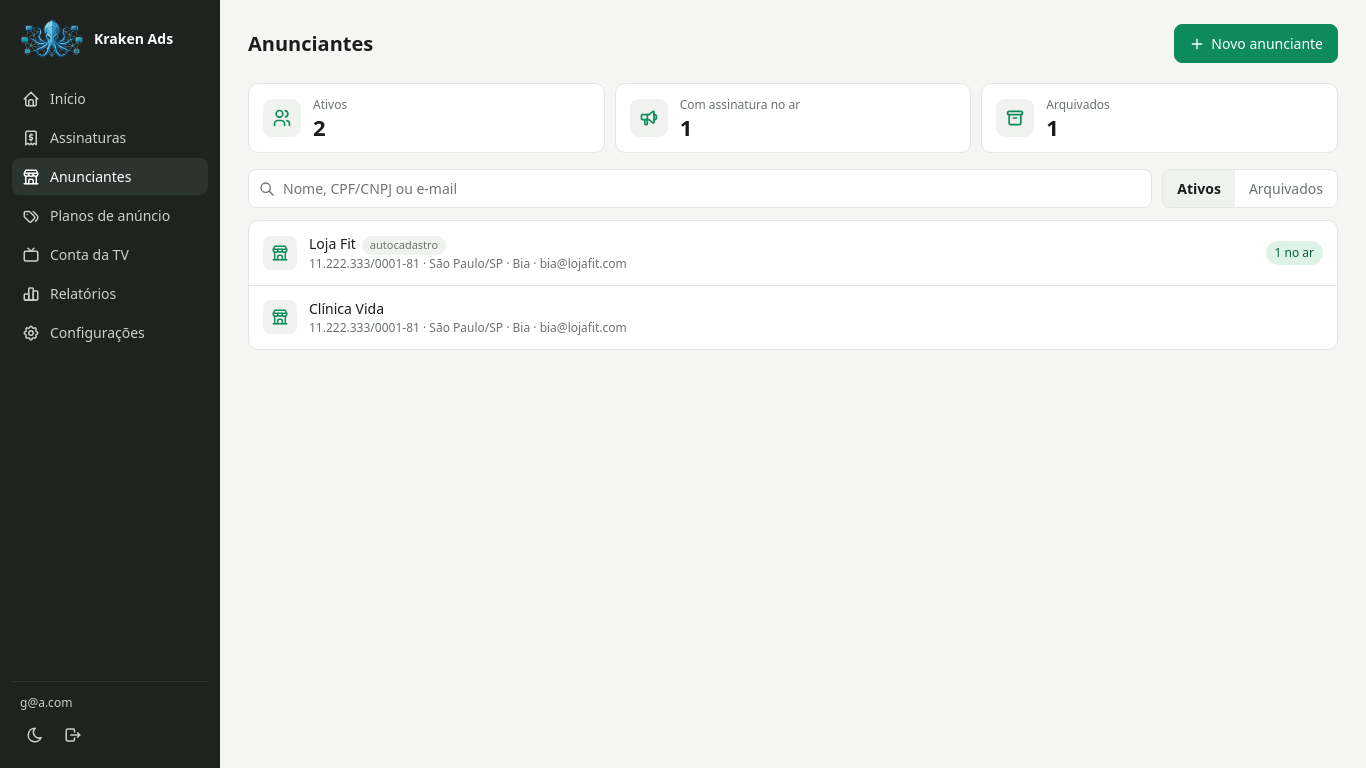
Test case: advertisers › lists with stats and searches on the server
Check: the text "Loja Fit" is shown, box x1=309 y1=234 x2=356 y2=253
Check: the text "11.222.333/0001-81" below "Loja Fit" is shown, box x1=309 y1=255 x2=627 y2=272
Type "vida" into the search field named "Buscar" at x=712, y=189, box x1=283 y1=170 x2=1141 y2=207
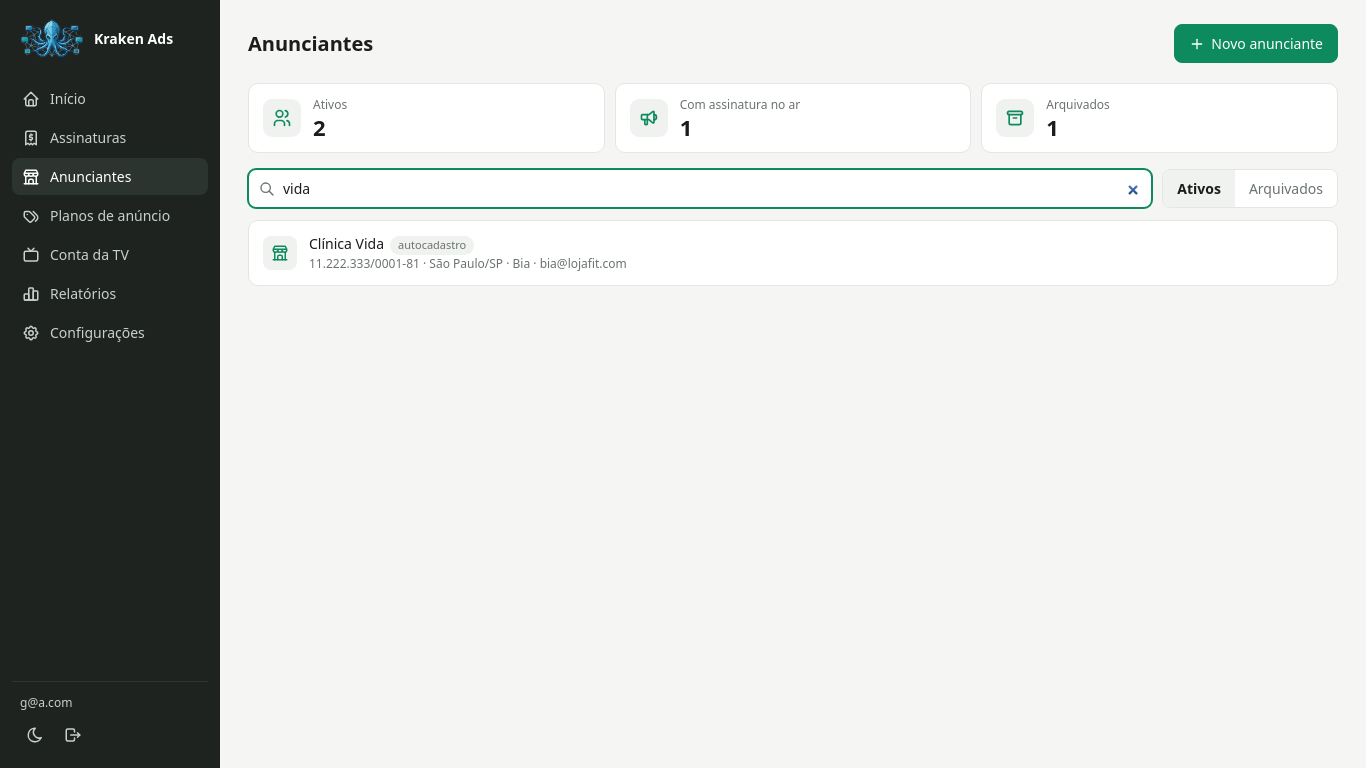
Check: the link "Loja Fit" is gone
